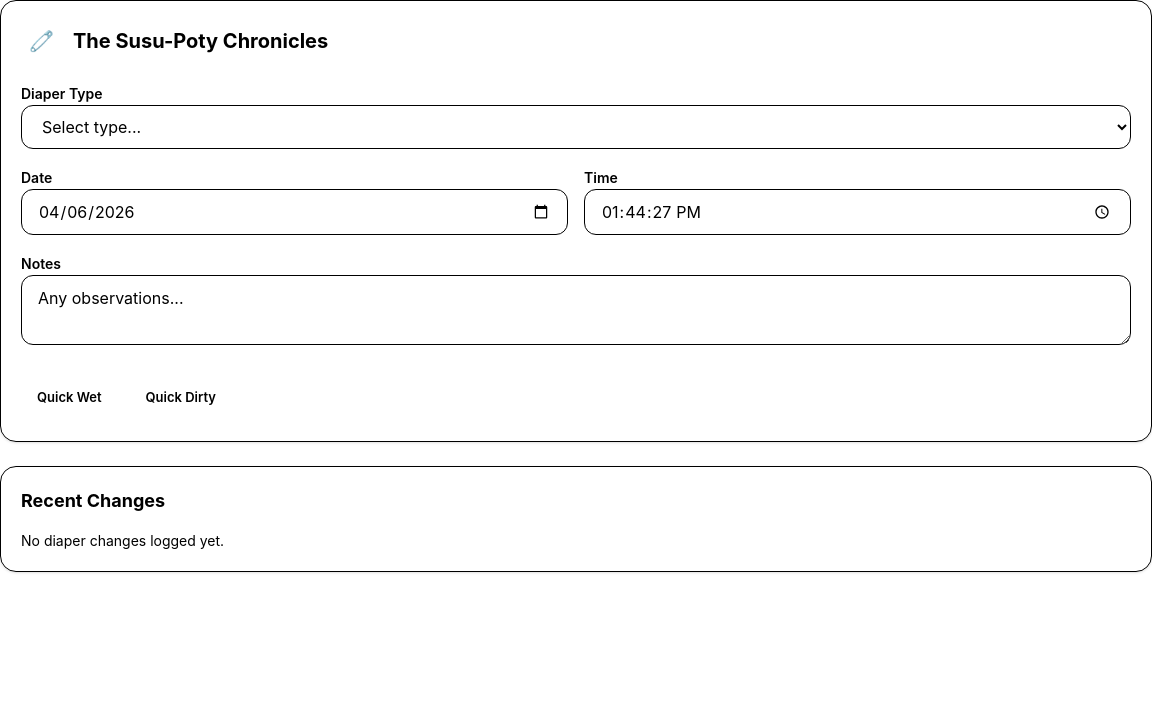
Test case: SusuPoty › quick wet sets type
The image size is (1152, 720).
Click the button "Quick Wet" at (69,398), box [21,380,118,416]
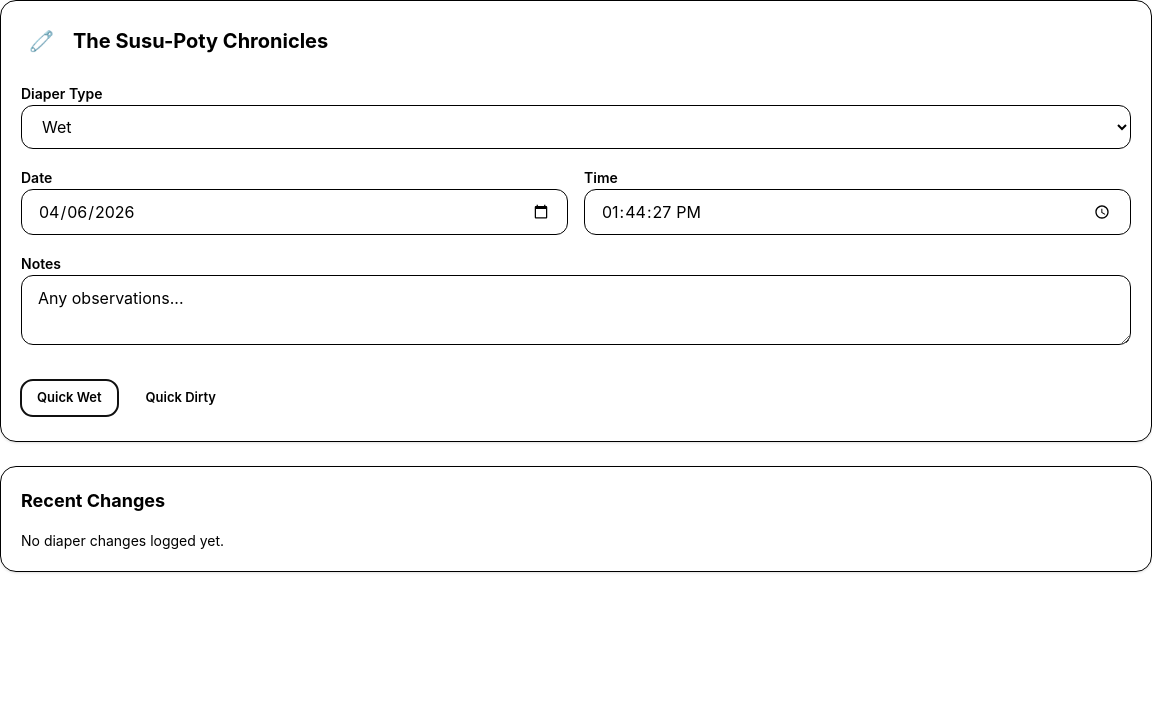
Now the dropdown shows "Wet", box [21,105,1131,149]
